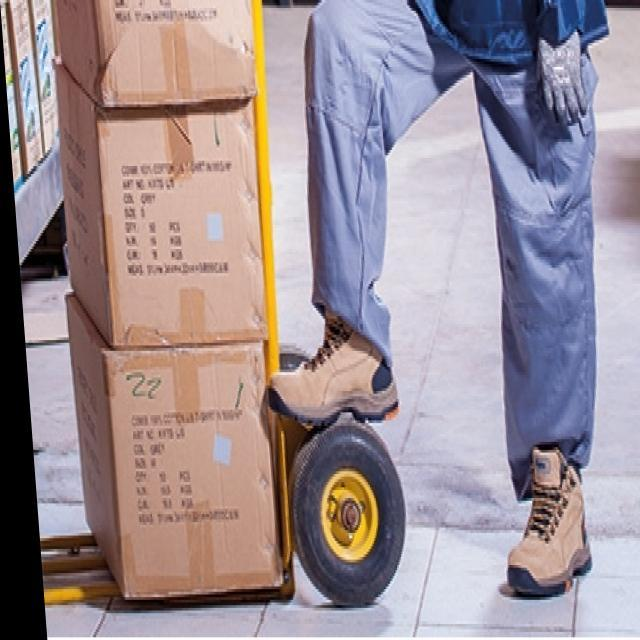shoes: (258, 298, 599, 602)
